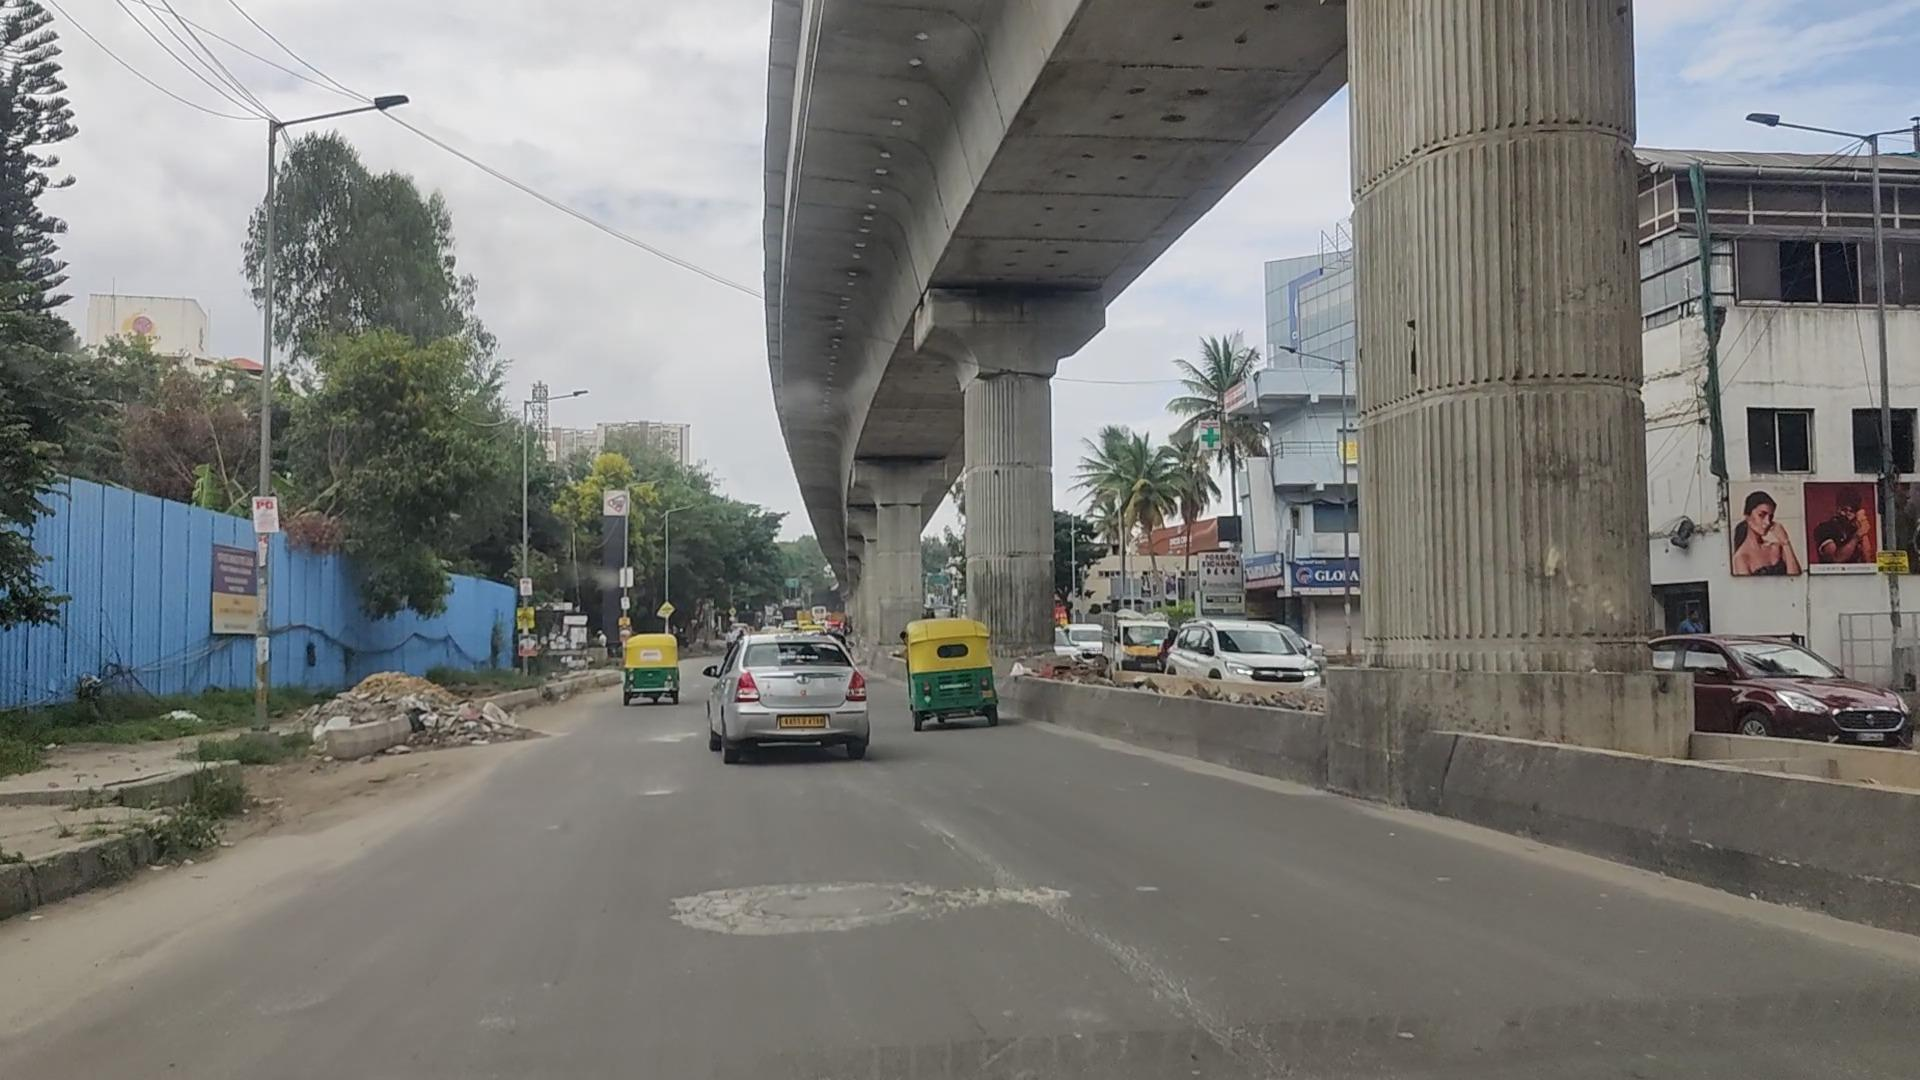LMV: (700, 621, 873, 762), (905, 618, 1000, 729), (617, 632, 682, 700)
RoadDamages: (644, 870, 1062, 938)
